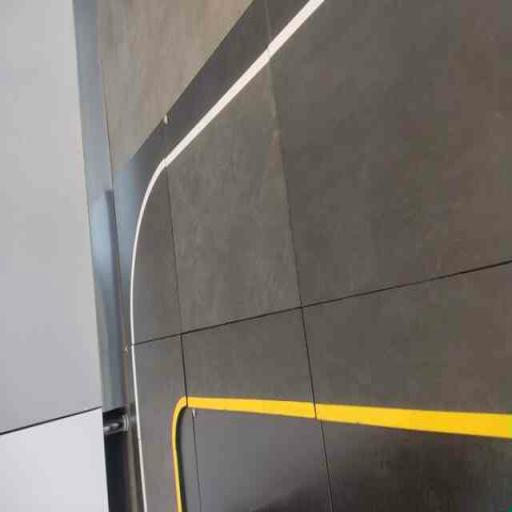left: (116, 115, 190, 511)
